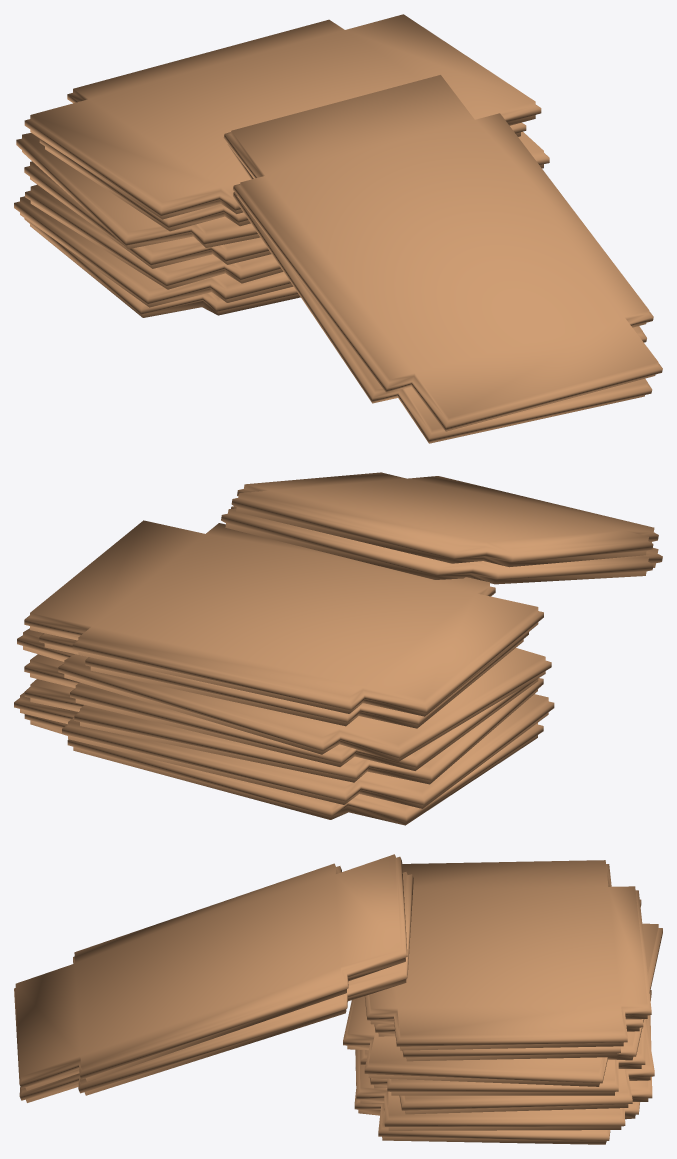
File: CardboardFlat3.fbx
The picture shows the model from 3 angles, top to bottom: view 1: azimuth 30°, elevation 25°; view 2: azimuth 150°, elevation 25°; view 3: azimuth 270°, elevation 25°; orthographic projection. The views are drawn at different scales.
Visible parts, largest first — view 1: CardboardStack3; view 2: CardboardStack3; view 3: CardboardStack3.
Part boxes in pixels (left/top/right/bottom): CardboardStack3: left=14, top=14, right=662, bottom=443; CardboardStack3: left=14, top=472, right=662, bottom=825; CardboardStack3: left=14, top=854, right=662, bottom=1144.
Bounding box in the file's own units: 179 × 69.27 × 260.
1 material, 1 textured.
